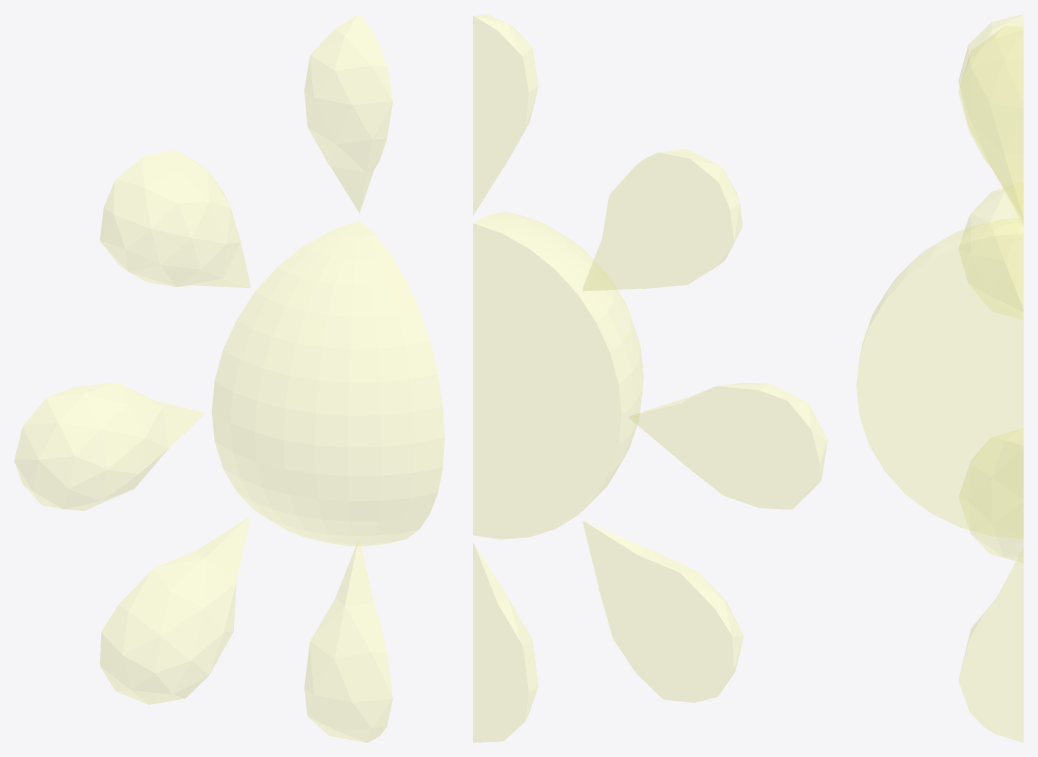
File: spot_light.gltf
3 renders of one model, left to right at view 1: azimuth 30°, elevation 25°; view 2: azimuth 150°, elevation 25°; view 3: azimuth 270°, elevation 25°, orthographic.
Visible parts, largest first — view 1: spot_light; view 2: spot_light; view 3: spot_light.
Boxes of the visible parts, box(x1,y1,x2,y2) form: spot_light: box(14, 14, 444, 742); spot_light: box(473, 14, 827, 742); spot_light: box(856, 14, 1023, 742).
Size of the model in its own units: 0.0289 by 0.0578 by 0.0123.
